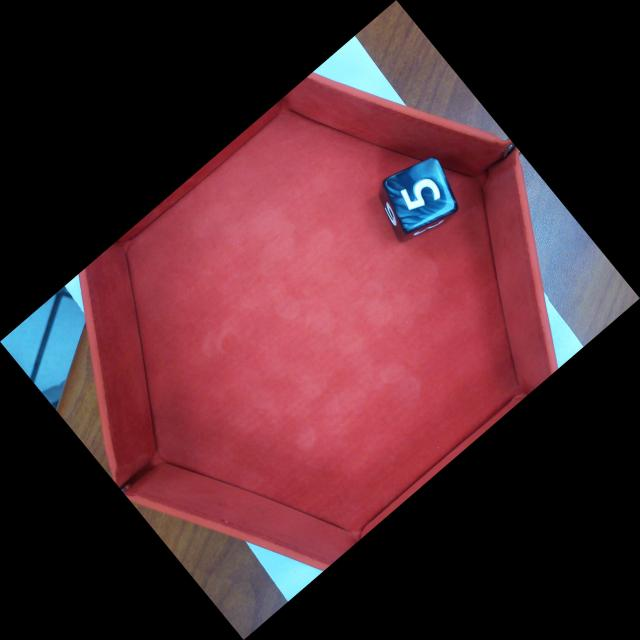dice: (383, 159, 457, 232)
